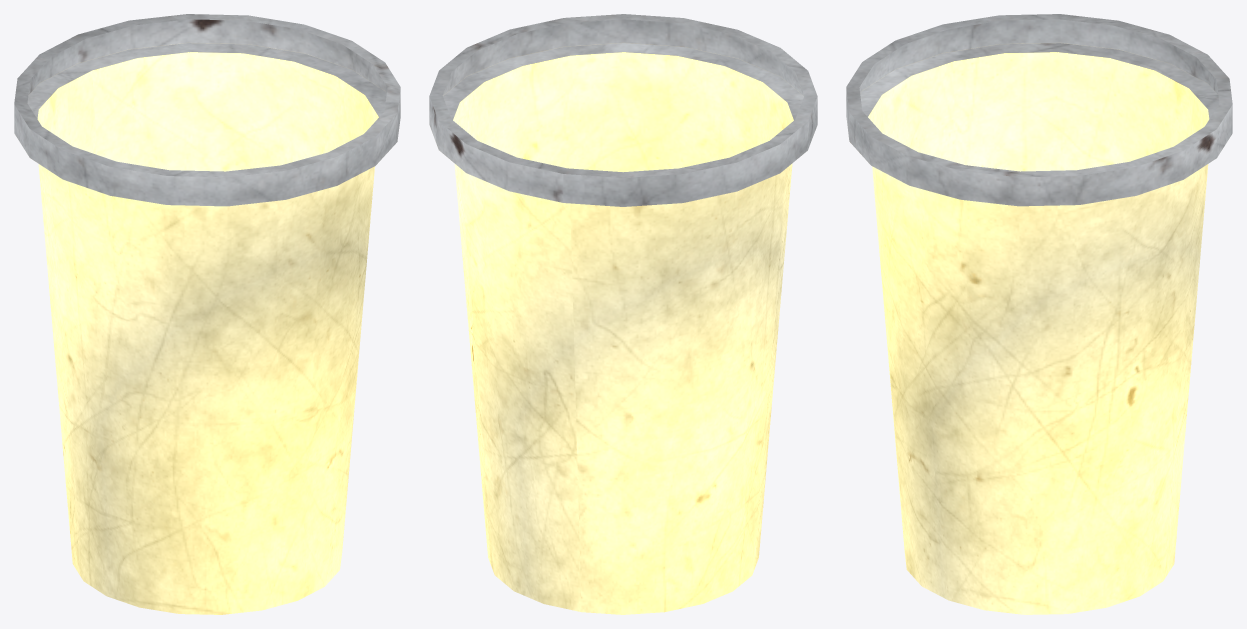
Rendered from SM_SodaCup.fbx.
3 views of the same model, side by side, from view 1: azimuth 30°, elevation 25°; view 2: azimuth 150°, elevation 25°; view 3: azimuth 270°, elevation 25° (orthographic).
Parts seen in each view (by area): view 1: SM_SodaCup; view 2: SM_SodaCup; view 3: SM_SodaCup.
Boxes of the visible parts, x1=… form: SM_SodaCup: x1=14, y1=14, x2=400, y2=614; SM_SodaCup: x1=429, y1=14, x2=817, y2=614; SM_SodaCup: x1=846, y1=14, x2=1232, y2=614.
Bounding box in the file's own units: 9.96 × 9.96 × 13.16.
Materials: 1 (1 with a texture image).
